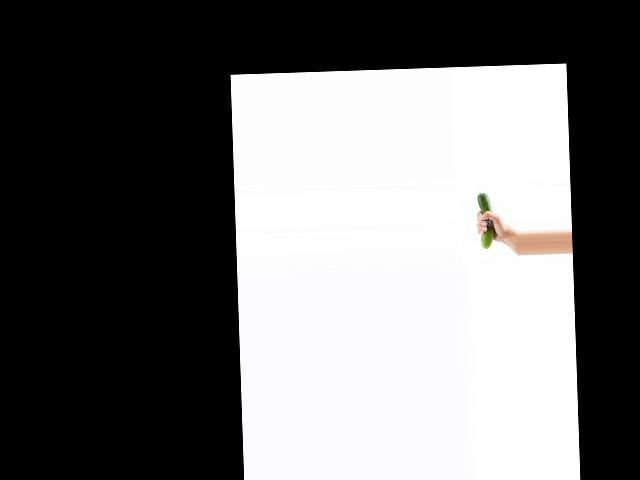cucumber: (476, 192, 494, 248)
